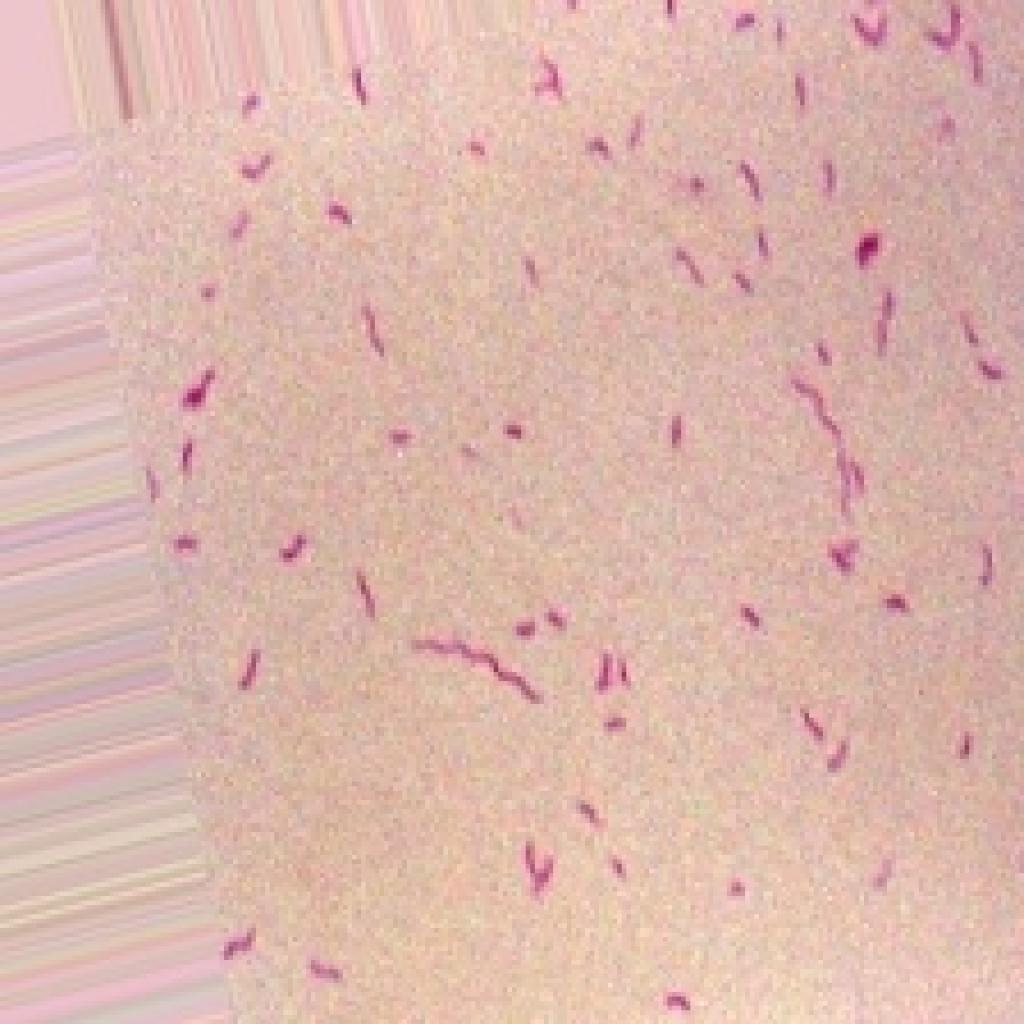Sprialbacteria: (45, 0, 1019, 1019)
